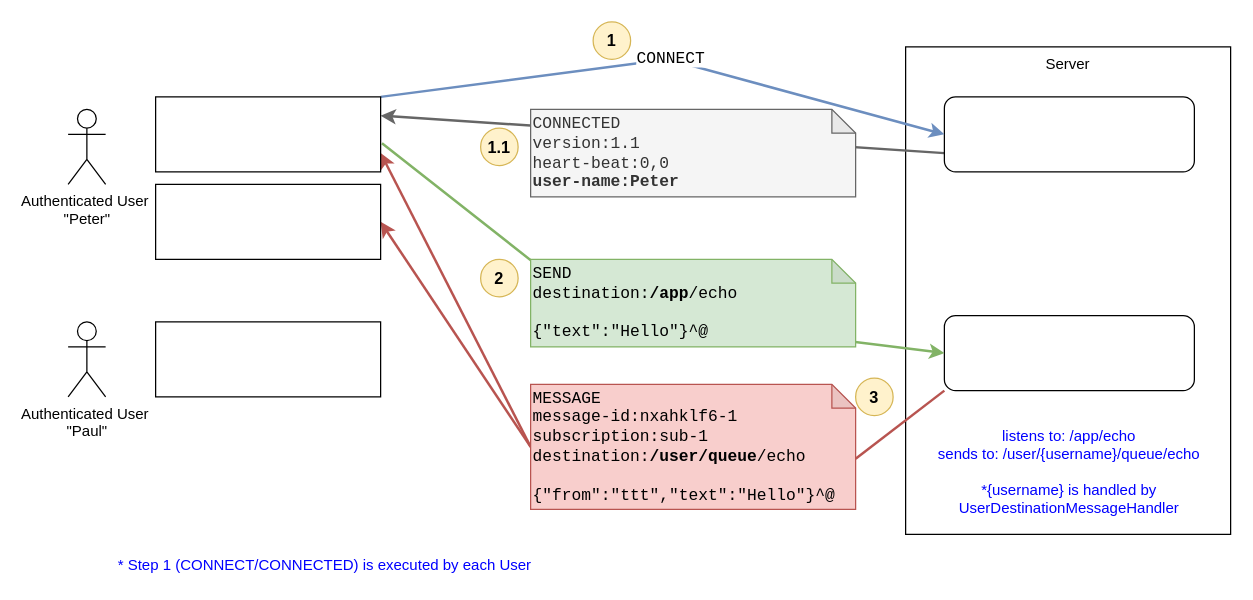
Image size: 1253x600. Some labels were removed from this diagram. Each missing label, with the centre of its shape:
@Configuration Endpoint http://localhost:8080/echo: point (1068, 134)
@Controller @MessageMapping("/echo"): point (1068, 352)
Session 1 sends to: /app/echo listens to: /user/queue/echo: point (267, 134)
Session 2 sends to: /app/echo listens to: /user/queue/echo: point (267, 221)
Session 3 sends to: /app/echo listens to: /user/queue/echo: point (267, 359)
